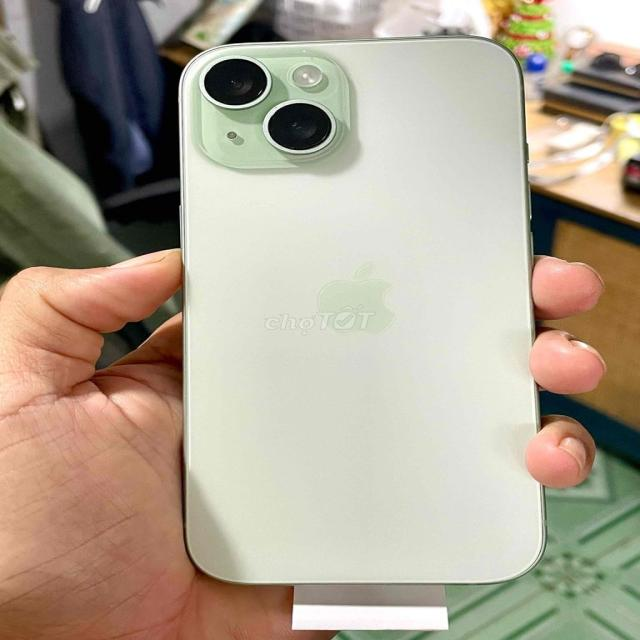gen_15: (146, 33, 574, 605)
